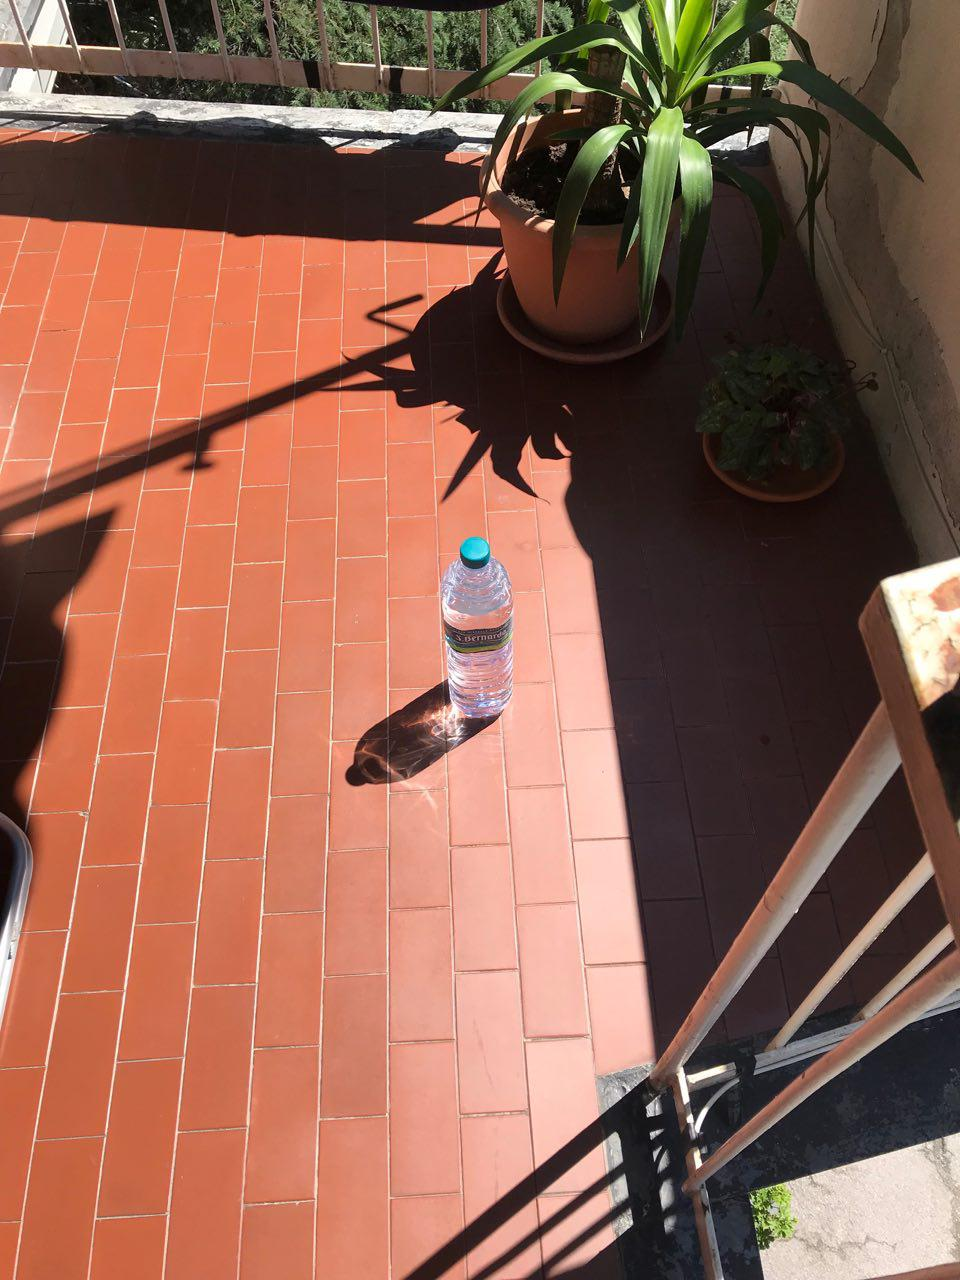san_bernardo: (440, 535, 514, 718)
